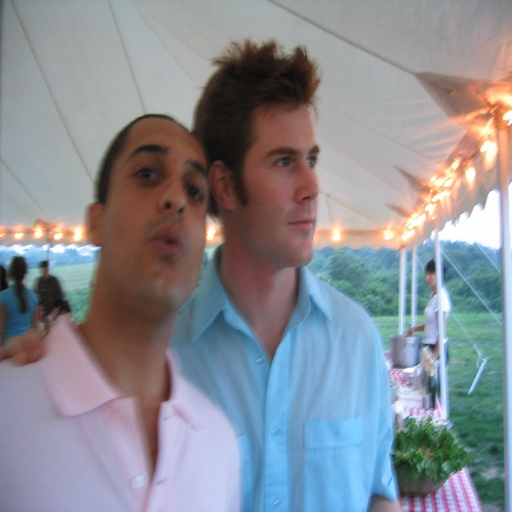hand: (0, 324, 41, 365), (406, 326, 417, 338)
